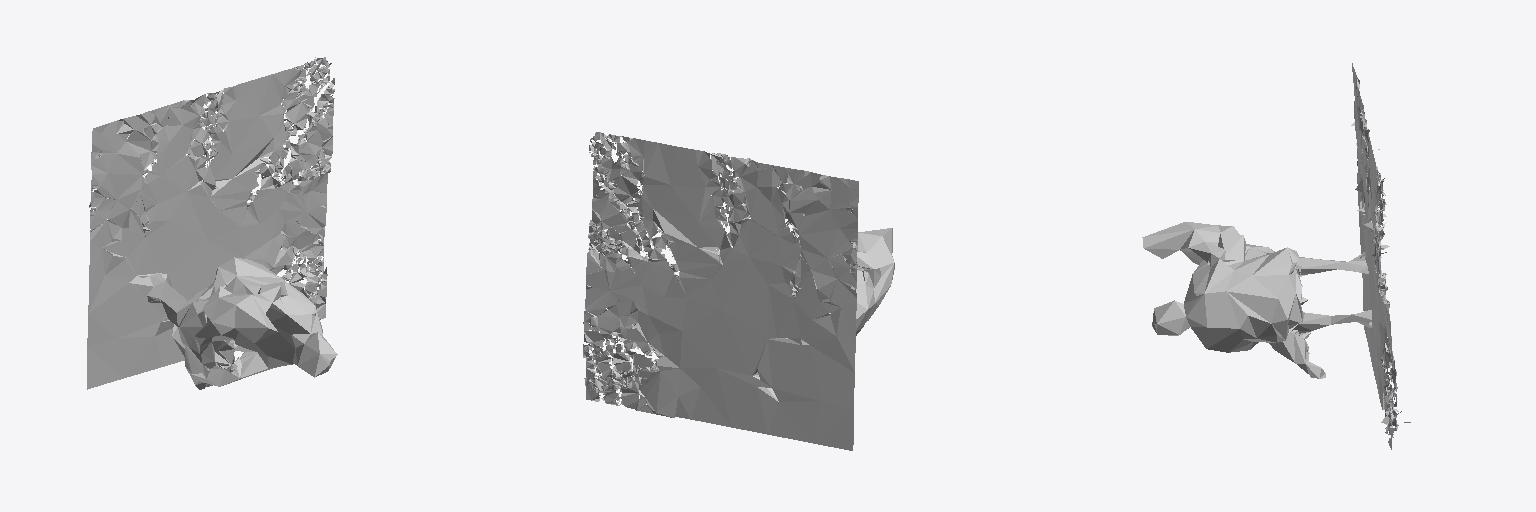
Rendered from igor-yana.obj.
The picture shows the model from 3 angles: view 1: azimuth 30°, elevation 25°; view 2: azimuth 150°, elevation 25°; view 3: azimuth 270°, elevation 25°; orthographic projection.
Size of the model in its own units: 1.81 by 1.81 by 1.68.